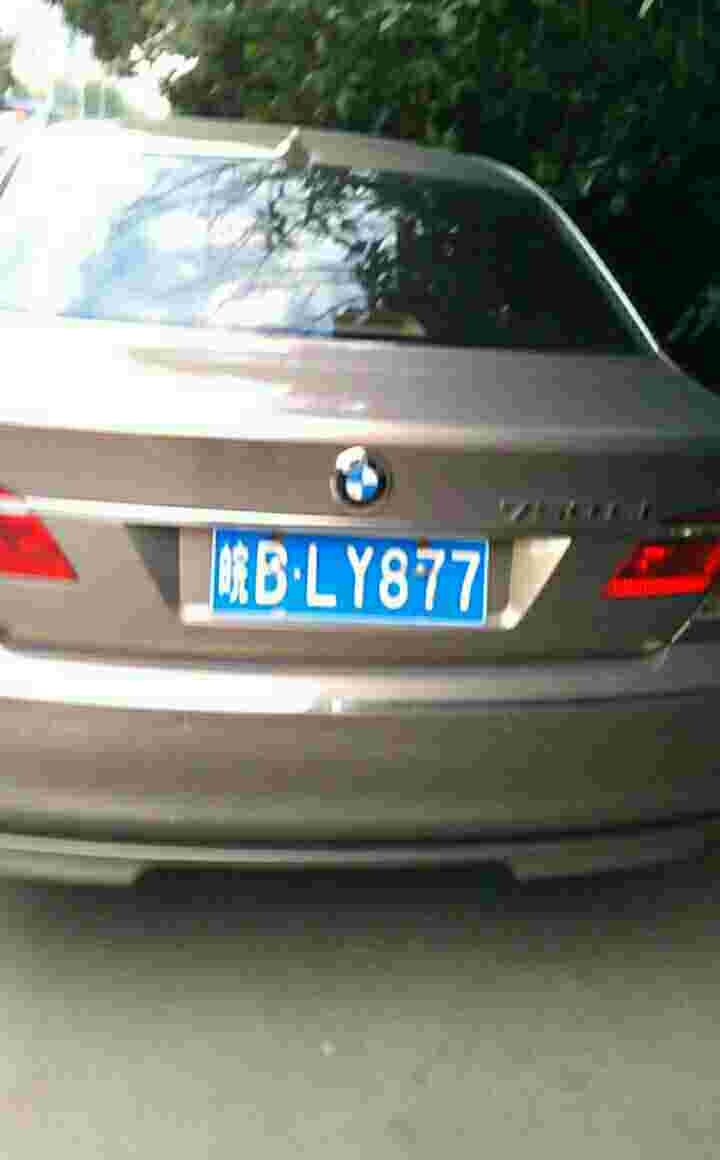car: (215, 521, 486, 626)
